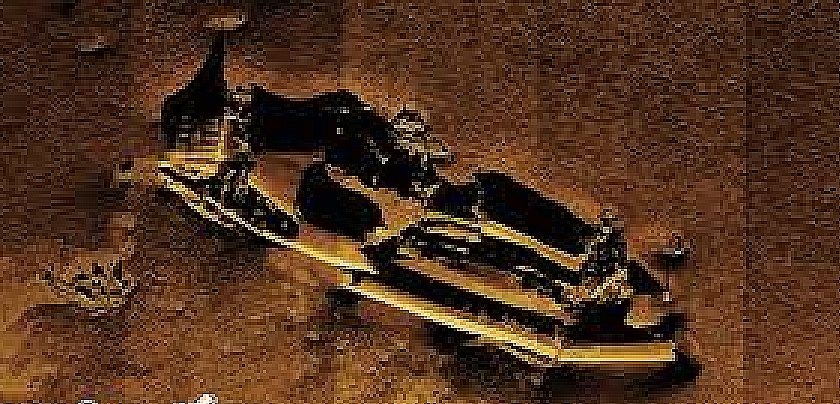ship: (151, 108, 679, 372)
